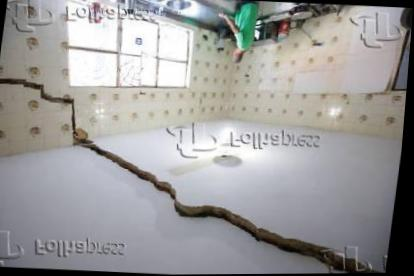damage: (0, 78, 389, 274)
